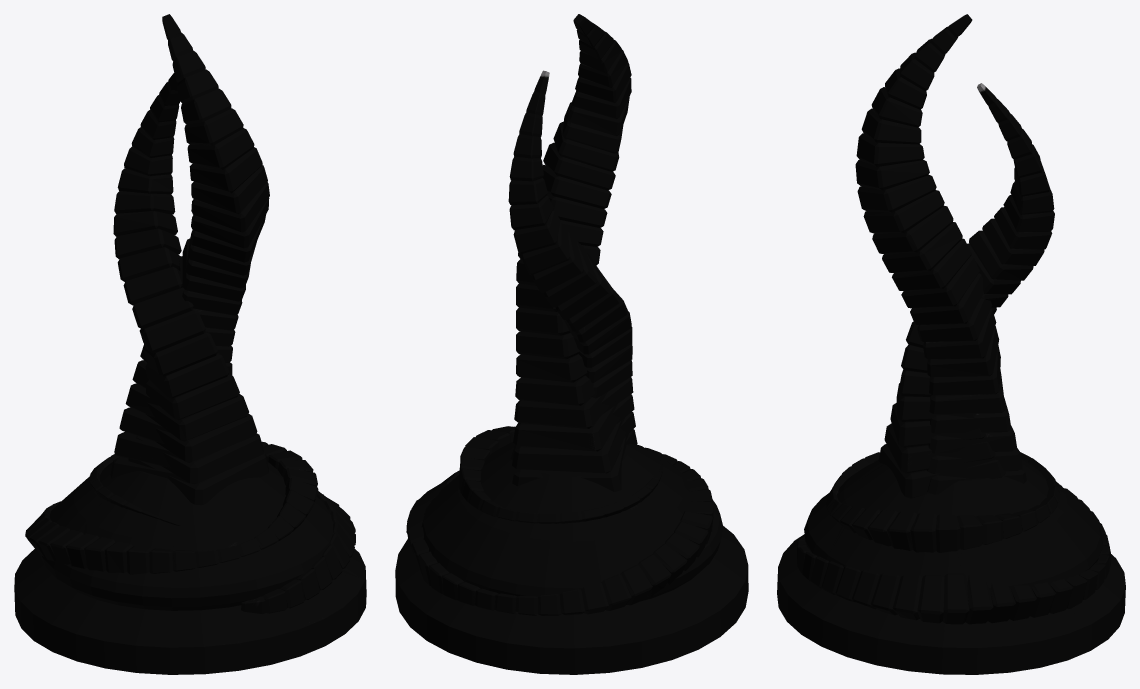
Rendered from Alien-Bishop.fbx.
The picture shows the model from 3 angles, left to right: view 1: azimuth 30°, elevation 25°; view 2: azimuth 150°, elevation 25°; view 3: azimuth 270°, elevation 25°; orthographic projection.
Parts seen in each view (by area): view 1: node_id3; view 2: node_id3; view 3: node_id3.
Boxes of the visible parts, <box> form: node_id3: <box>14,14,366,674</box>; node_id3: <box>395,14,748,674</box>; node_id3: <box>777,14,1125,674</box>.
Size of the model in its own units: 0.5122 by 0.9536 by 0.5129.
Materials: 1 (1 with a texture image).
